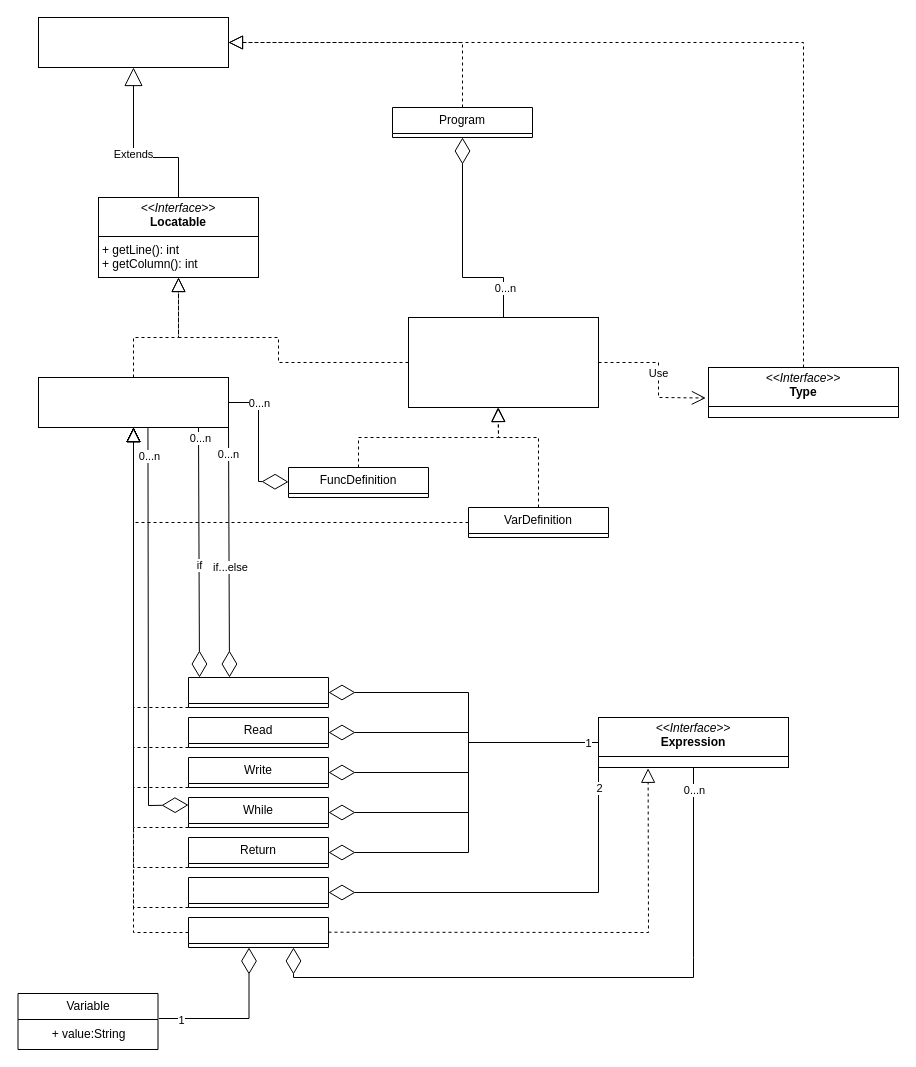
Image size: 916x1067. Some labels were removed from this diagram. The box of each missing label's shape, as (x1, y1, x2, y2) in pixels:
<<Interface>> ASTNode: (38, 16, 228, 68)
<<Interface>> Definition + getType(): Type + getName(): String: (408, 316, 598, 408)
<<Interface>> Statement: (38, 376, 228, 428)
Assigment: (188, 876, 328, 908)
FuncInvocation: (188, 916, 328, 948)
IfElse: (188, 676, 328, 708)
